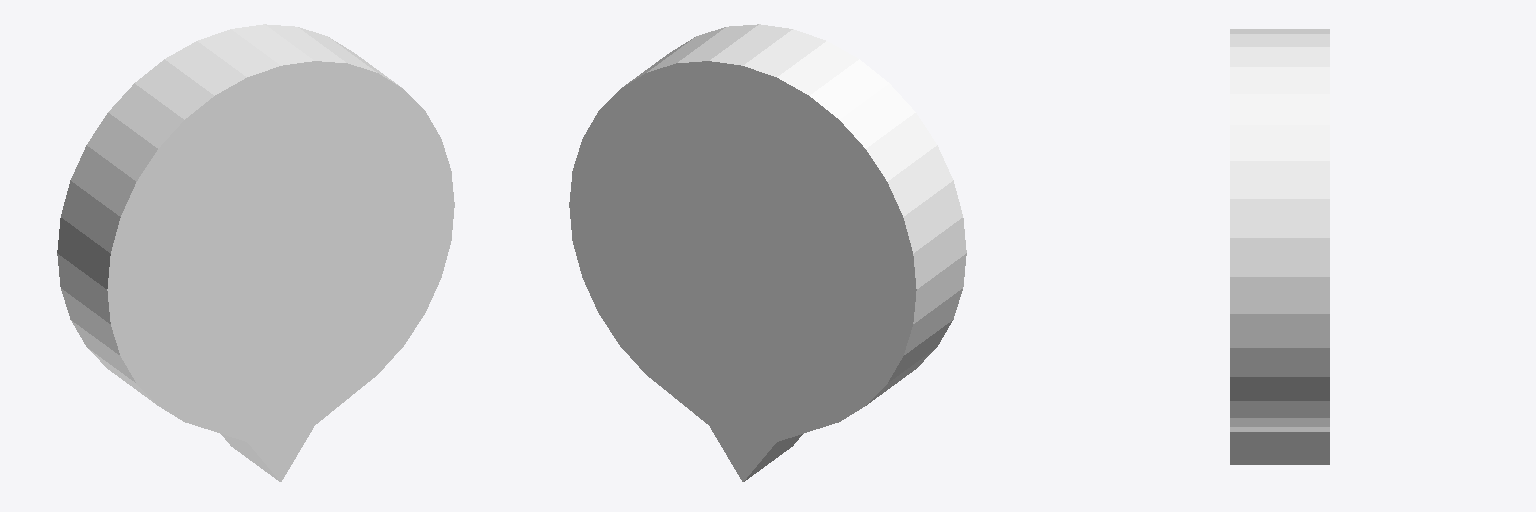
The model's file is police.obj.
3 views of the same model, side by side, from view 1: azimuth 30°, elevation 25°; view 2: azimuth 150°, elevation 25°; view 3: azimuth 270°, elevation 25° (orthographic).
Parts seen in each view (by area): view 1: Cylinder; view 2: Cylinder; view 3: Cylinder.
Boxes of the visible parts, x1,y1,x2,y2 form: Cylinder: [57, 24, 454, 481]; Cylinder: [569, 24, 966, 481]; Cylinder: [1230, 29, 1329, 464].
Size of the model in its own units: 2 by 2.29 by 0.5.